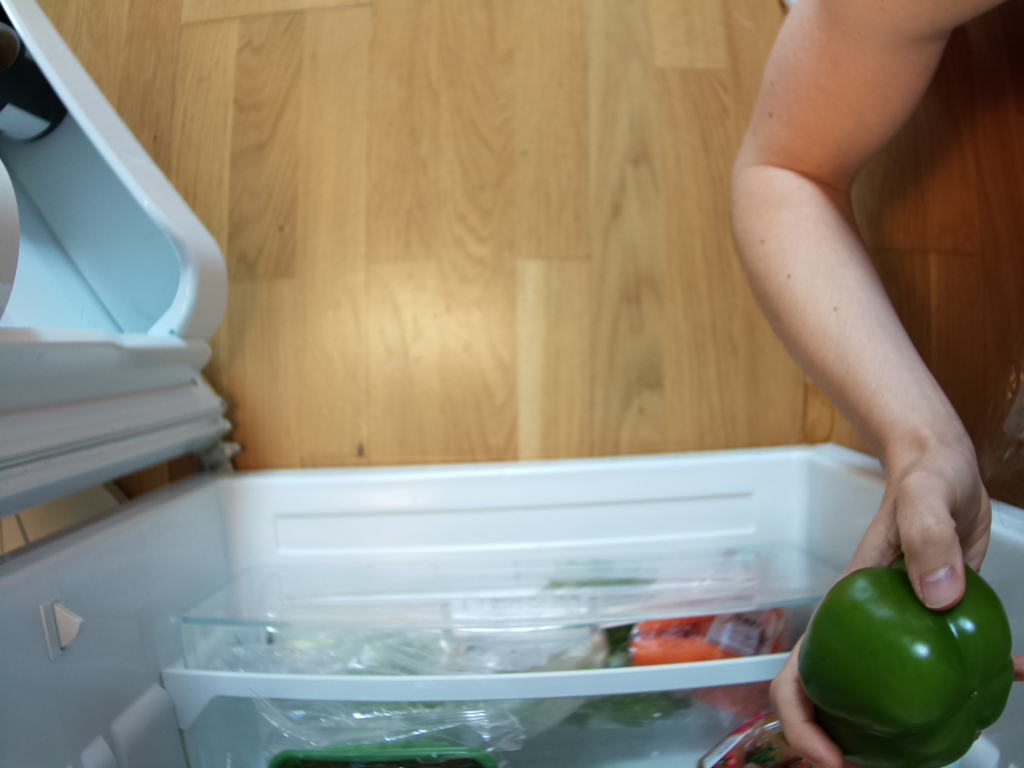pepper: (802, 560, 1015, 765)
